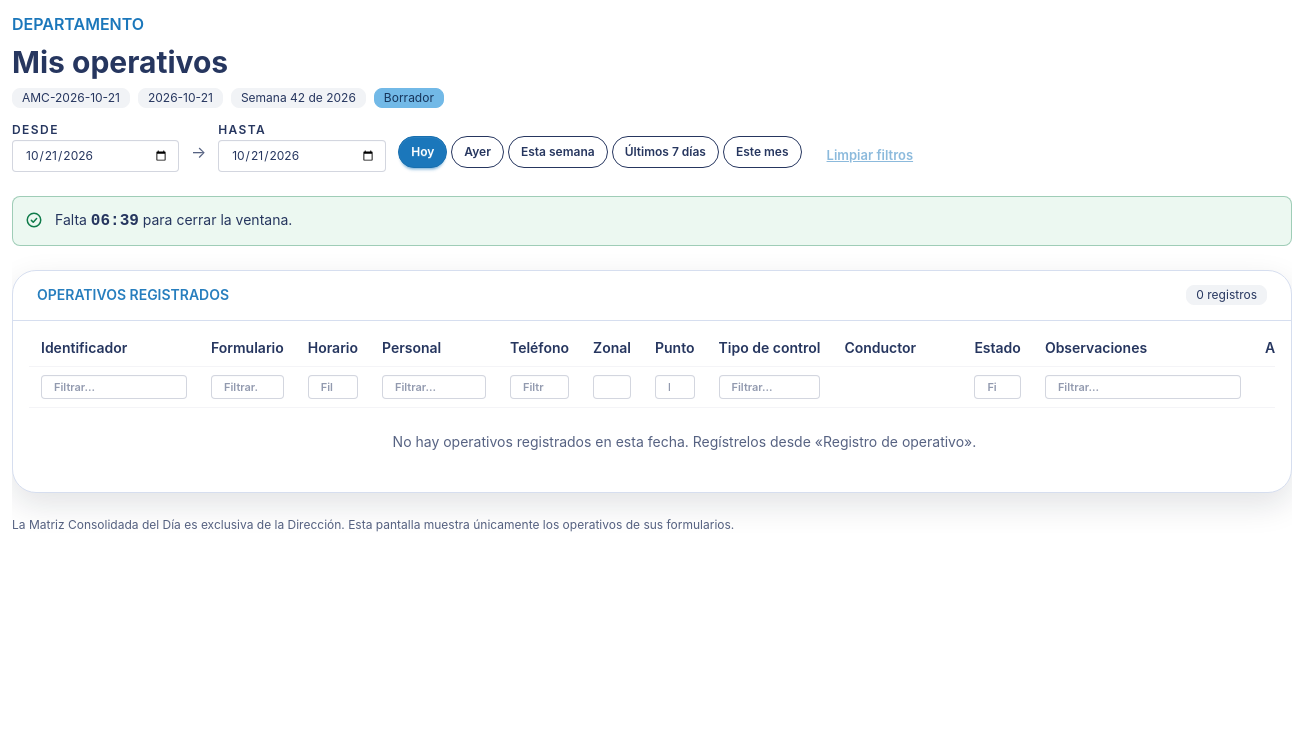
Test: P-02 · filtro Desde–Hasta › al cambiar el rango espera y vuelve a la página 1; «Limpiar filtros» vuelve al vigente
Click the button "Este mes" at x=762, y=152, box [723, 136, 802, 168]
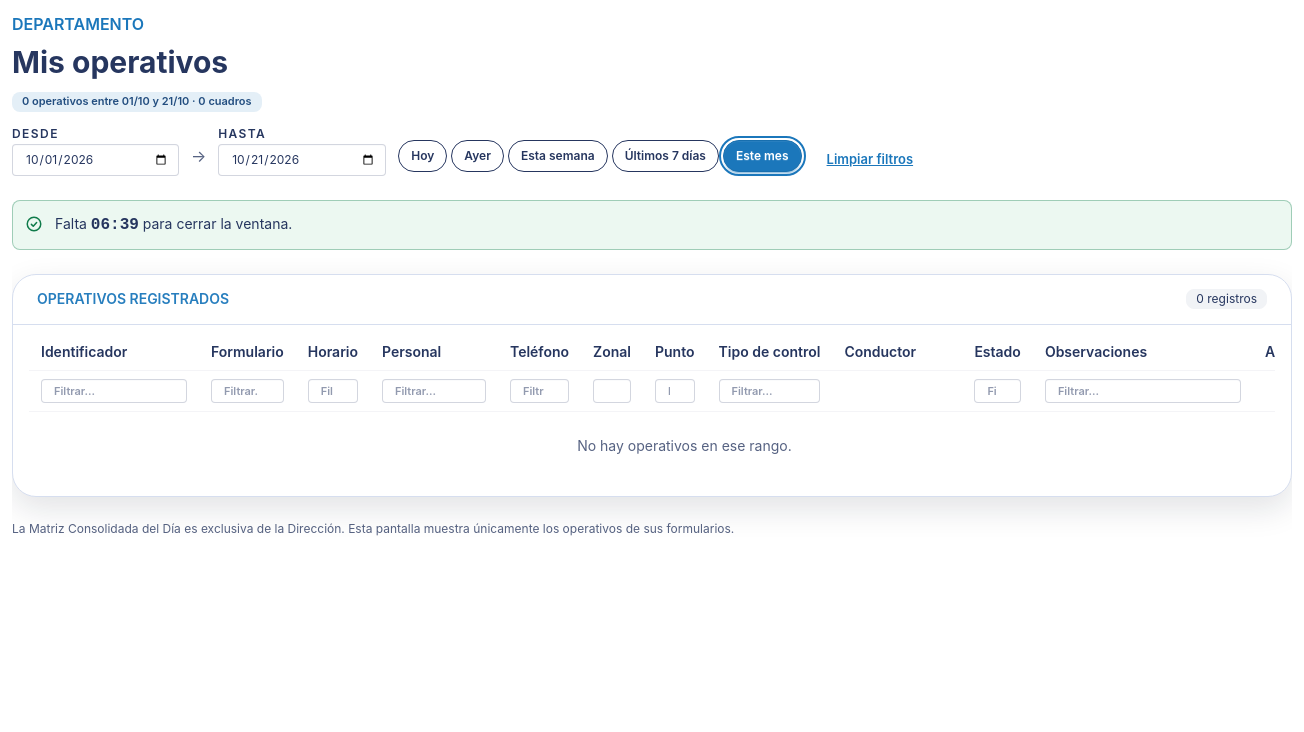
Click the button "Limpiar filtros" at x=870, y=160, box [814, 144, 926, 176]
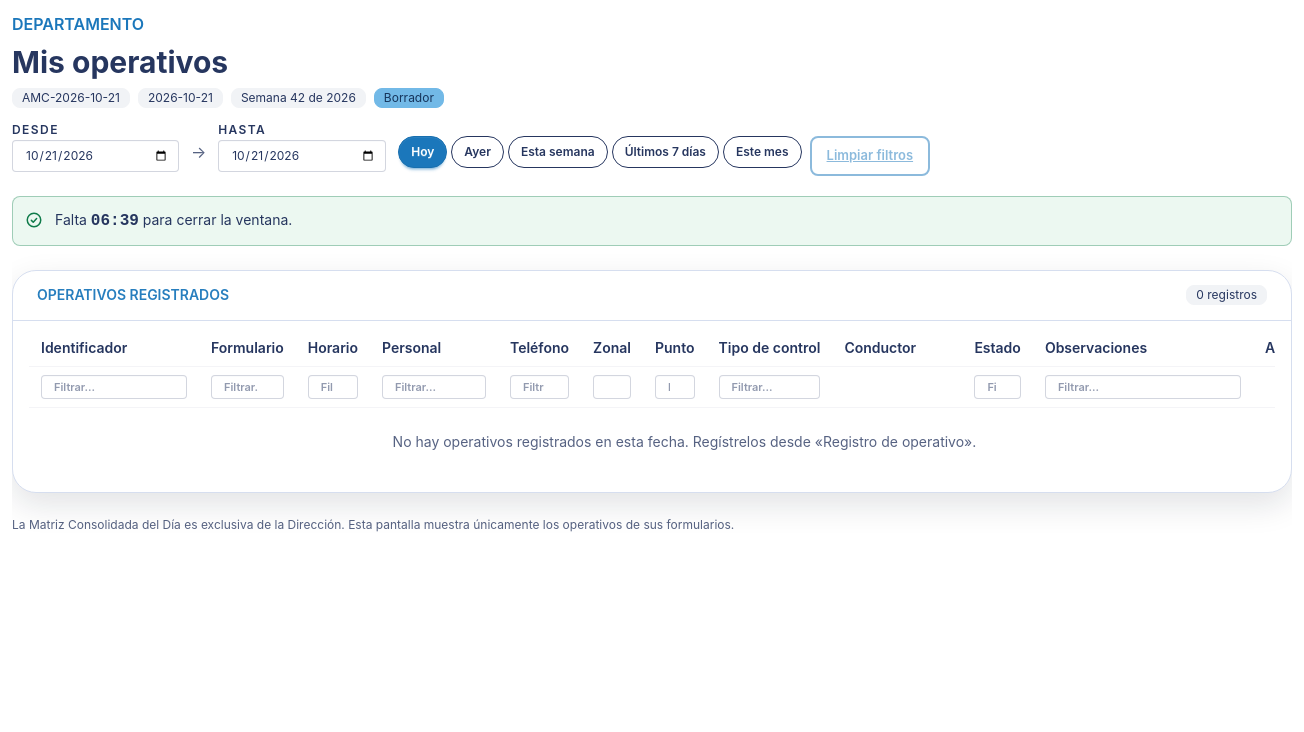
Check: the date field labelled "Hasta" holds "2026-10-21", box [218, 140, 386, 172]
Check: the date field labelled "Desde" holds "2026-10-21", box [12, 140, 179, 172]
